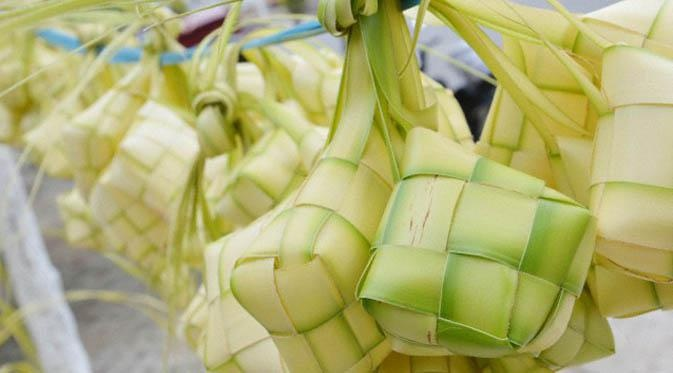ketupat: (358, 125, 597, 357)
